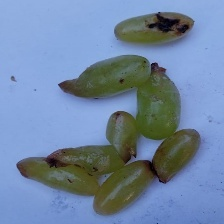grapes: (47, 38, 203, 175)
